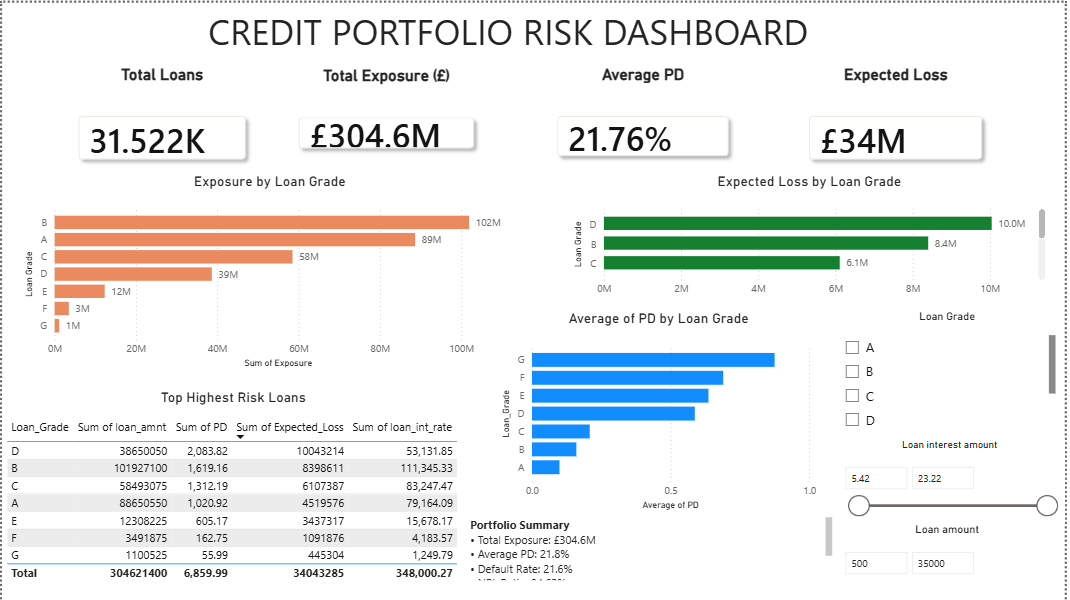

What the dashboard file says about the page in this screenshot:
{"tool":"powerbi","page":{"name":"Page 1","canvas":[1280,720],"ordinal":0},"visuals":[{"type":"cardVisual","title":"Total Loans","fields":{"Data":["CountNonNull(anaconda_projects_7dc8a4f6-a12e-46aa-a43e-0802e3ae41b0_portfolio_risk.loan_amnt)"]},"box":[63.6,74.6,259.2,143.1],"z":0},{"type":"cardVisual","title":"Total Exposure (£)","fields":{"Data":["Sum(anaconda_projects_7dc8a4f6-a12e-46aa-a43e-0802e3ae41b0_portfolio_risk.Exposure)"]},"box":[327.7,77,269,128.4],"z":1000},{"type":"cardVisual","title":"Average PD","fields":{"Data":["Avg(anaconda_projects_7dc8a4f6-a12e-46aa-a43e-0802e3ae41b0_portfolio_risk.PD)"]},"box":[640.8,74.6,264.1,139.4],"z":2000},{"type":"cardVisual","title":"Expected Loss","fields":{"Data":["Sum(anaconda_projects_7dc8a4f6-a12e-46aa-a43e-0802e3ae41b0_portfolio_risk.Expected_Loss)"]},"box":[942.8,74.6,266.6,143.1],"z":3000},{"type":"clusteredBarChart","title":"Exposure by Loan Grade","fields":{"Category":["anaconda_projects_7dc8a4f6-a12e-46aa-a43e-0802e3ae41b0_portfolio_risk.Loan_Grade"],"Y":["Sum(anaconda_projects_7dc8a4f6-a12e-46aa-a43e-0802e3ae41b0_portfolio_risk.Exposure)"]},"box":[22,205.4,601.6,239.7],"z":4000},{"type":"clusteredBarChart","title":"Expected Loss by Loan Grade","fields":{"Category":["anaconda_projects_7dc8a4f6-a12e-46aa-a43e-0802e3ae41b0_portfolio_risk.Loan_Grade"],"Y":["Sum(anaconda_projects_7dc8a4f6-a12e-46aa-a43e-0802e3ae41b0_portfolio_risk.Expected_Loss)"]},"box":[683.6,205.4,578.4,157.7],"z":5000},{"type":"tableEx","title":"Top Highest Risk Loans","fields":{"Values":["anaconda_projects_7dc8a4f6-a12e-46aa-a43e-0802e3ae41b0_portfolio_risk.Loan_Grade","Sum(anaconda_projects_7dc8a4f6-a12e-46aa-a43e-0802e3ae41b0_portfolio_risk.loan_amnt)","Sum(anaconda_projects_7dc8a4f6-a12e-46aa-a43e-0802e3ae41b0_portfolio_risk.PD)","Sum(anaconda_projects_7dc8a4f6-a12e-46aa-a43e-0802e3ae41b0_portfolio_risk.Expected_Loss)","Sum(anaconda_projects_7dc8a4f6-a12e-46aa-a43e-0802e3ae41b0_portfolio_risk.loan_int_rate)"]},"box":[0,464.7,557.6,255.6],"z":6000},{"type":"slicer","title":"Loan Grade","fields":{"Values":["anaconda_projects_7dc8a4f6-a12e-46aa-a43e-0802e3ae41b0_portfolio_risk.Loan_Grade"]},"box":[1003.9,369.3,270.2,155.3],"z":7000},{"type":"slicer","title":"Loan interest amount","fields":{"Values":["anaconda_projects_7dc8a4f6-a12e-46aa-a43e-0802e3ae41b0_portfolio_risk.loan_int_rate"]},"box":[1003.9,524.6,276.4,101.5],"z":8000},{"type":"slicer","title":"Loan amount","fields":{"Values":["anaconda_projects_7dc8a4f6-a12e-46aa-a43e-0802e3ae41b0_portfolio_risk.loan_amnt"]},"box":[1003.9,626.1,270.2,94.2],"z":9000},{"type":"textbox","box":[243.3,0,791.2,77],"z":10000},{"type":"textbox","box":[557.8,615.6,446.7,85.6],"z":11000},{"type":"clusteredBarChart","title":"Average of PD by Loan Grade","fields":{"Category":["anaconda_projects_7dc8a4f6-a12e-46aa-a43e-0802e3ae41b0_portfolio_risk.Loan_Grade"],"Y":["Avg(anaconda_projects_7dc8a4f6-a12e-46aa-a43e-0802e3ae41b0_portfolio_risk.PD)"]},"box":[596.7,369.3,388.9,245.8],"z":12000}]}

Visuals, with their boxes in screenshot pixels (x1, y1, x2, y2), scaled from the page's 1280x720 canvas onto the 1070x600 screenshot:
"Total Loans" cardVisual: pyautogui.locateOnScreen(53, 62, 270, 181)
"Total Exposure (£)" cardVisual: pyautogui.locateOnScreen(274, 64, 499, 171)
"Average PD" cardVisual: pyautogui.locateOnScreen(536, 62, 756, 178)
"Expected Loss" cardVisual: pyautogui.locateOnScreen(788, 62, 1011, 181)
"Exposure by Loan Grade" clusteredBarChart: pyautogui.locateOnScreen(18, 171, 521, 371)
"Expected Loss by Loan Grade" clusteredBarChart: pyautogui.locateOnScreen(571, 171, 1055, 303)
"Top Highest Risk Loans" tableEx: pyautogui.locateOnScreen(0, 387, 466, 599)
"Loan Grade" slicer: pyautogui.locateOnScreen(839, 308, 1065, 437)
"Loan interest amount" slicer: pyautogui.locateOnScreen(839, 437, 1069, 522)
"Loan amount" slicer: pyautogui.locateOnScreen(839, 522, 1065, 599)
textbox: pyautogui.locateOnScreen(203, 0, 865, 64)
textbox: pyautogui.locateOnScreen(466, 513, 840, 584)
"Average of PD by Loan Grade" clusteredBarChart: pyautogui.locateOnScreen(499, 308, 824, 513)
